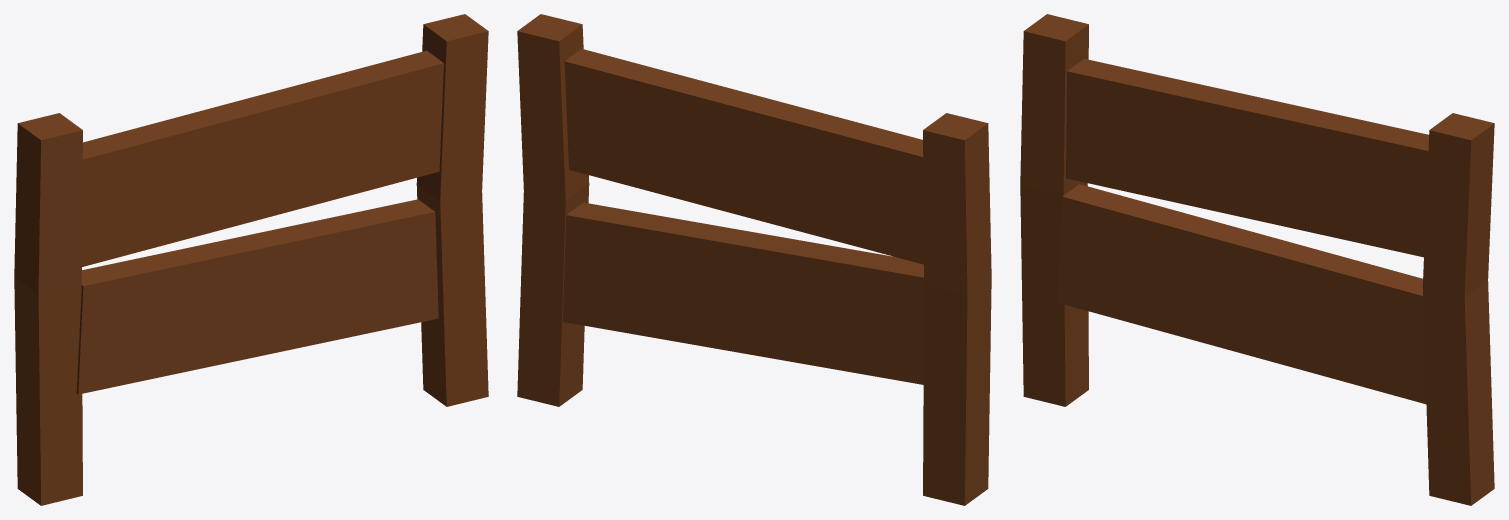
The model's file is Fence.fbx.
3 renders of one model, left to right at view 1: azimuth 30°, elevation 25°; view 2: azimuth 150°, elevation 25°; view 3: azimuth 330°, elevation 25°, orthographic.
Visible parts, largest first — view 1: Cube; view 2: Cube; view 3: Cube.
Boxes of the visible parts, x1,y1,x2,y2 form: Cube: (14,14,488,505); Cube: (517,14,991,505); Cube: (1020,14,1494,505).
Bounding box in the file's own units: 258 × 200 × 25.45.
